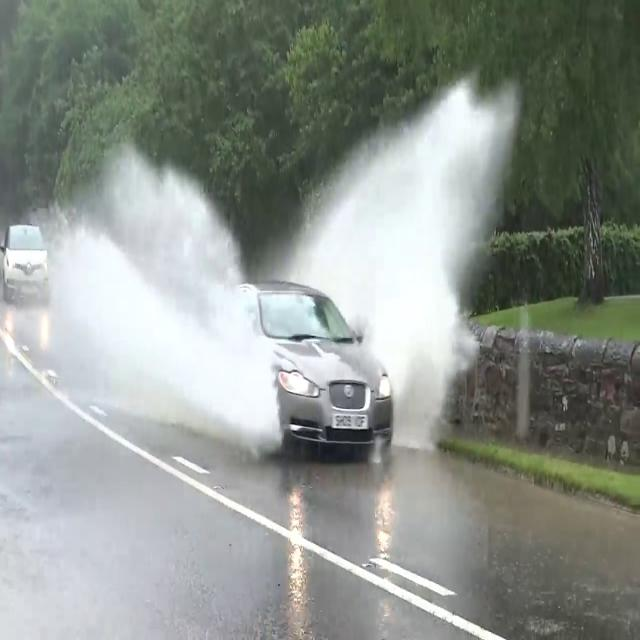license-plate-annotation: (332, 410, 369, 426)
